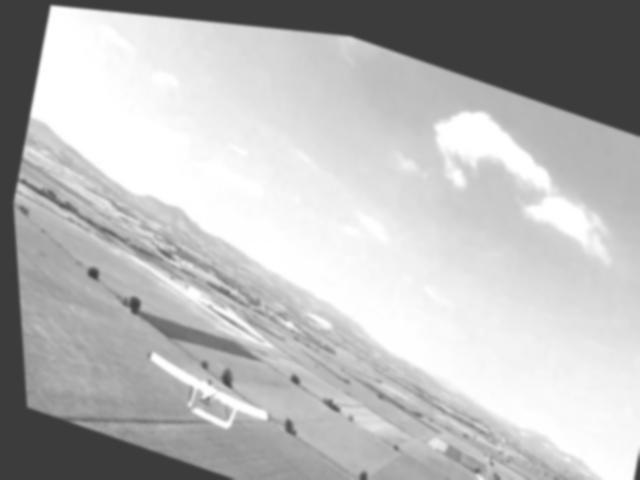hedef: (108, 320, 286, 464)
